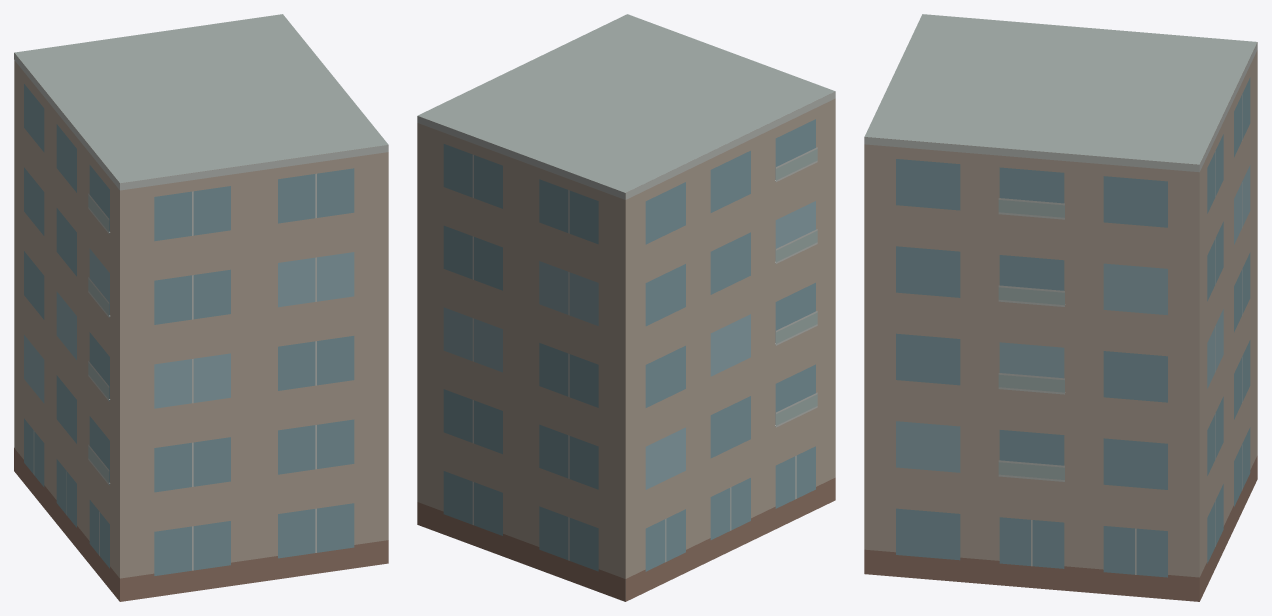
Rendered from survey-upis-33006676.glb.
The picture shows the model from 3 angles, left to right: view 1: azimuth 30°, elevation 25°; view 2: azimuth 150°, elevation 25°; view 3: azimuth 270°, elevation 25°; orthographic projection. The views are drawn at different scales.
Visible parts, largest first — view 1: survey-upis-33006676.tmp; view 2: survey-upis-33006676.tmp; view 3: survey-upis-33006676.tmp.
Boxes of the visible parts, x1,y1,x2,y2 form: survey-upis-33006676.tmp: [14, 14, 388, 601]; survey-upis-33006676.tmp: [417, 14, 835, 601]; survey-upis-33006676.tmp: [864, 14, 1257, 601].
Size of the model in its own units: 10.43 by 14.1 by 11.5.
